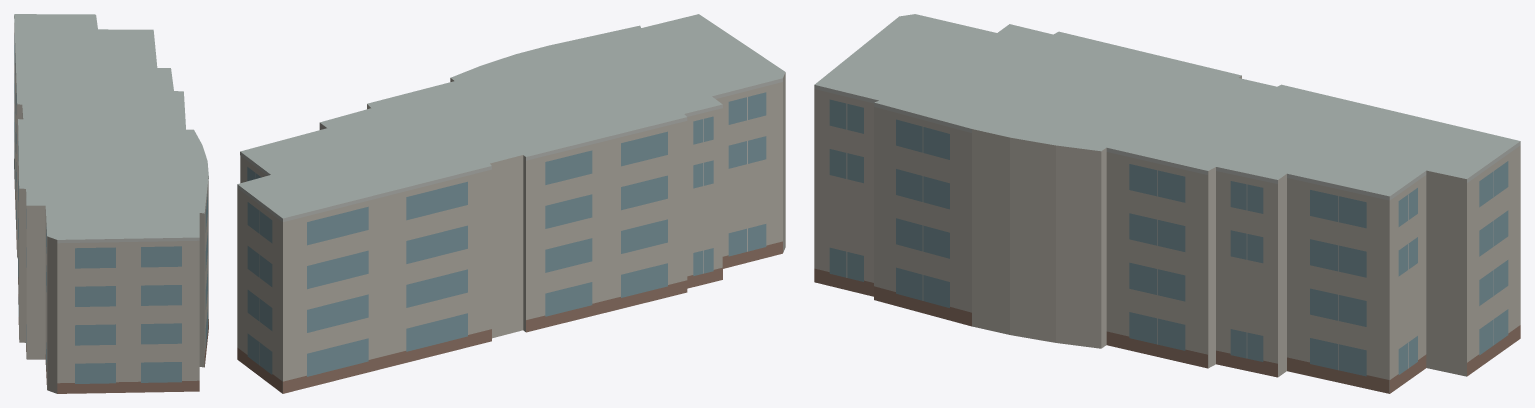
Rendered from survey-upis-32846713.glb.
3 views of the same model, side by side, from view 1: azimuth 30°, elevation 25°; view 2: azimuth 150°, elevation 25°; view 3: azimuth 270°, elevation 25° (orthographic). The views are drawn at different scales.
Parts seen in each view (by area): view 1: survey-upis-32846713.tmp; view 2: survey-upis-32846713.tmp; view 3: survey-upis-32846713.tmp.
Boxes of the visible parts, <box> form: survey-upis-32846713.tmp: <box>14,14,208,393</box>; survey-upis-32846713.tmp: <box>237,14,785,393</box>; survey-upis-32846713.tmp: <box>814,14,1520,393</box>.
Bounding box in the file's own units: 22.85 × 11.53 × 37.38.
